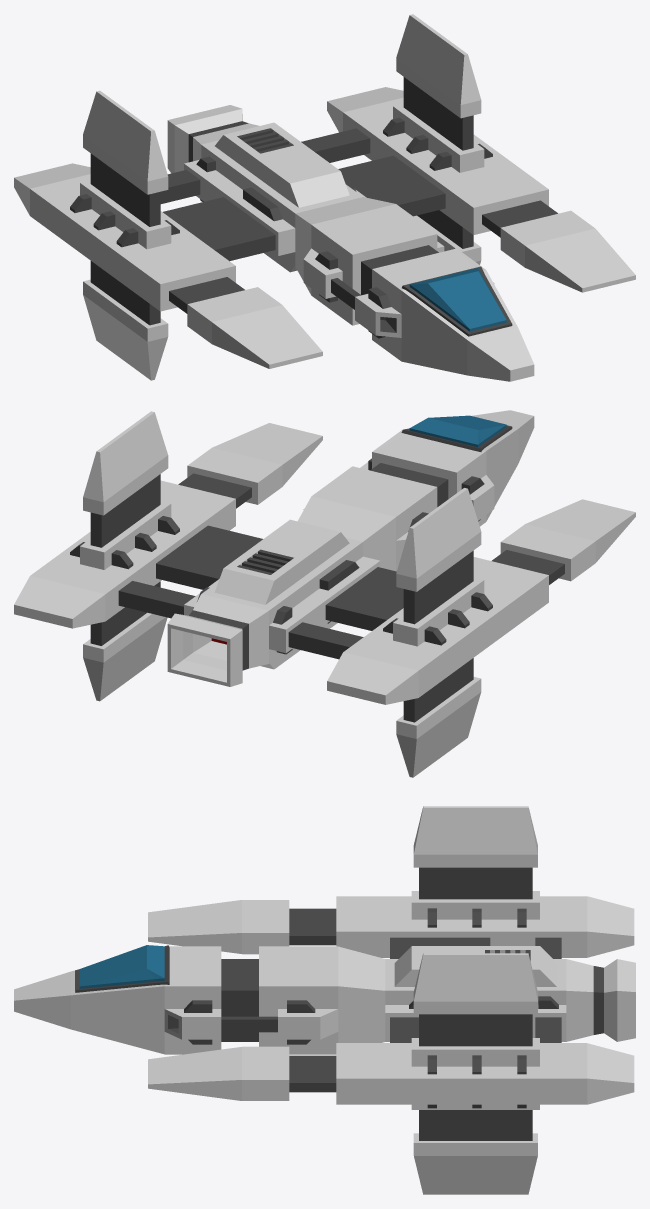
Rendered from spaceship_3.fbx.
3 renders of one model, top to bottom at view 1: azimuth 30°, elevation 25°; view 2: azimuth 150°, elevation 25°; view 3: azimuth 270°, elevation 25°, orthographic. The views are drawn at different scales.
Visible parts, largest first — view 1: Fighter_3; view 2: Fighter_3; view 3: Fighter_3.
Part boxes in pixels (bbox=[...]): Fighter_3: bbox=[14, 14, 635, 381]; Fighter_3: bbox=[14, 410, 635, 777]; Fighter_3: bbox=[14, 806, 635, 1194].
Size of the model in its own units: 45.84 by 28.08 by 66.08.
